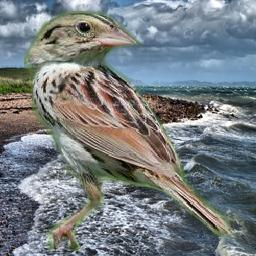Sparrow: (25, 11, 236, 251)
